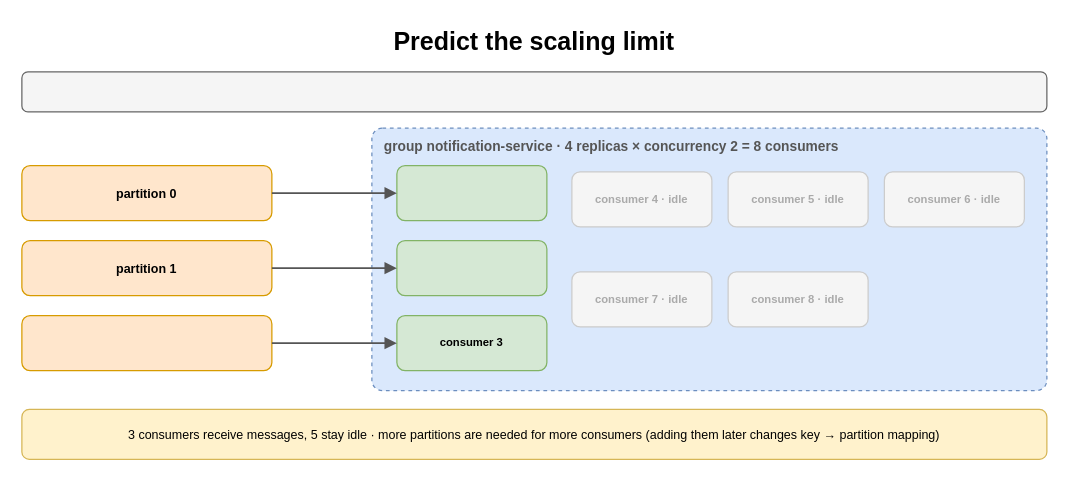
Some shapes in this 1069 by 481 pixel diagram are drawn without their labels. The shapes that lost their labels are listed below. From the top down, each one's centre as x and y in pixels, then its label:
At (x=534, y=91): "Each partition is assigned to one consumer in a group".
At (x=471, y=192): "consumer 1".
At (x=471, y=267): "consumer 2".
At (x=146, y=342): "partition 2".
